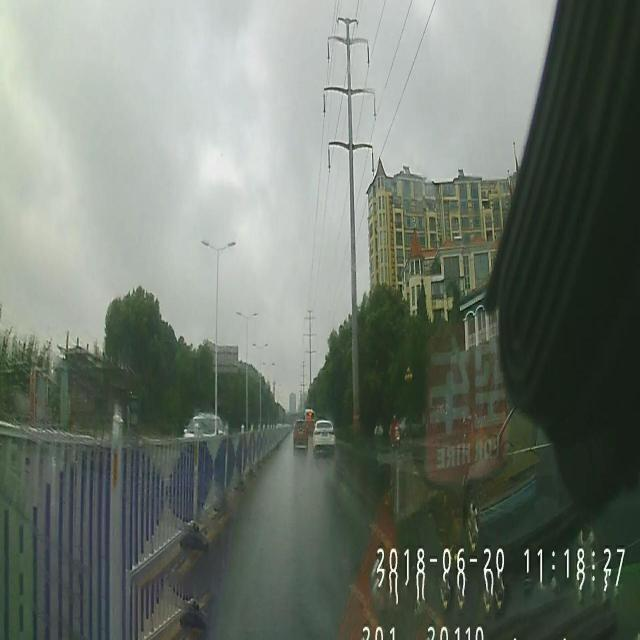car: (460, 392, 640, 594), (183, 414, 228, 456), (312, 420, 336, 450), (292, 421, 308, 448)
